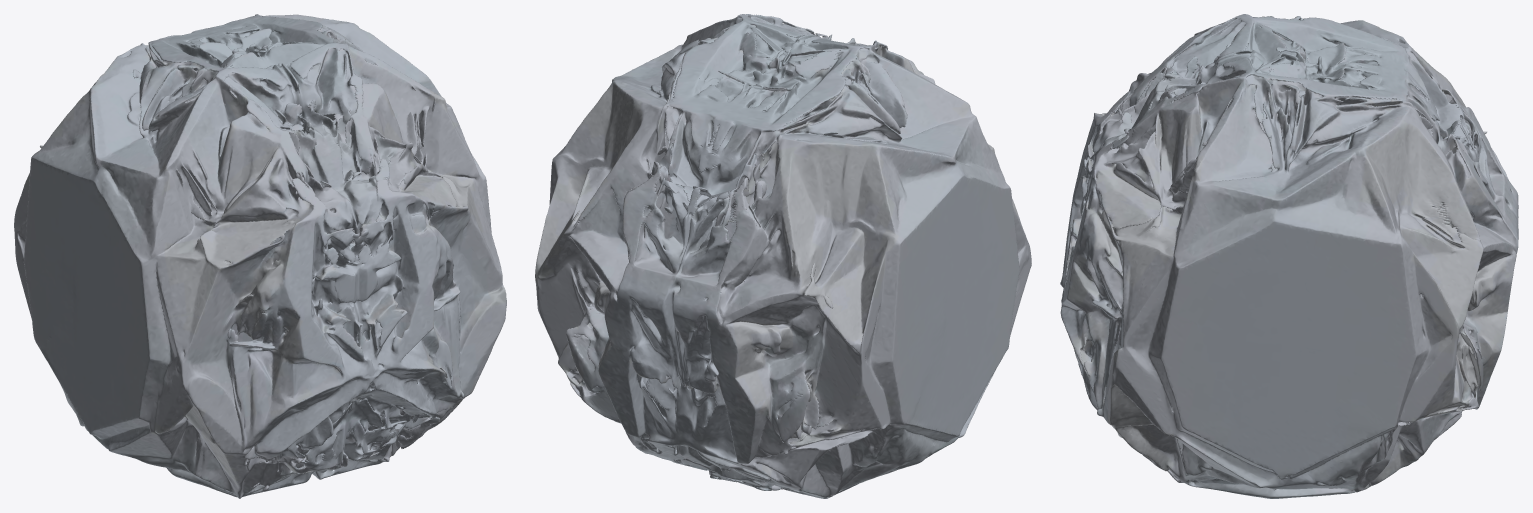
File: Vidrio Roto.fbx
3 views of the same model, side by side, from view 1: azimuth 30°, elevation 25°; view 2: azimuth 150°, elevation 25°; view 3: azimuth 270°, elevation 25° (orthographic).
Visible parts, largest first — view 1: tripo_node_16b1fa58; view 2: tripo_node_16b1fa58; view 3: tripo_node_16b1fa58.
Part boxes in pixels (x1,y1,x2,y2): tripo_node_16b1fa58: (14,14,506,498); tripo_node_16b1fa58: (535,14,1031,498); tripo_node_16b1fa58: (1060,14,1518,498).
Bounding box in the file's own units: 88 × 99.17 × 100.
1 material, 1 textured.
